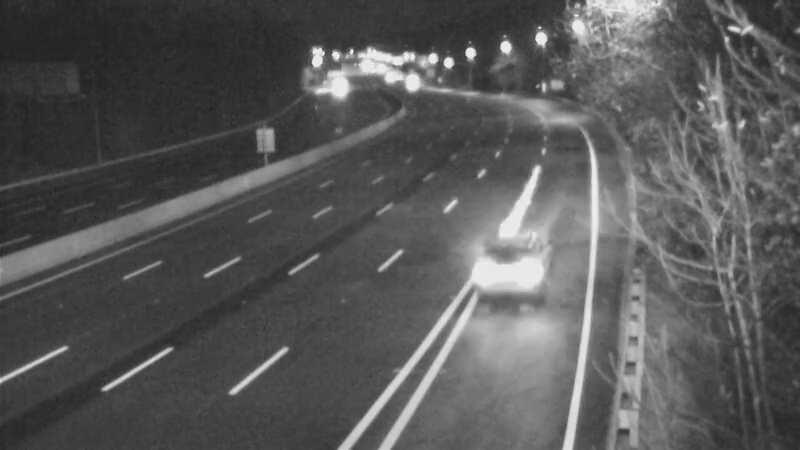vehicle: (473, 224, 553, 304), (386, 58, 436, 108), (315, 59, 365, 109)
